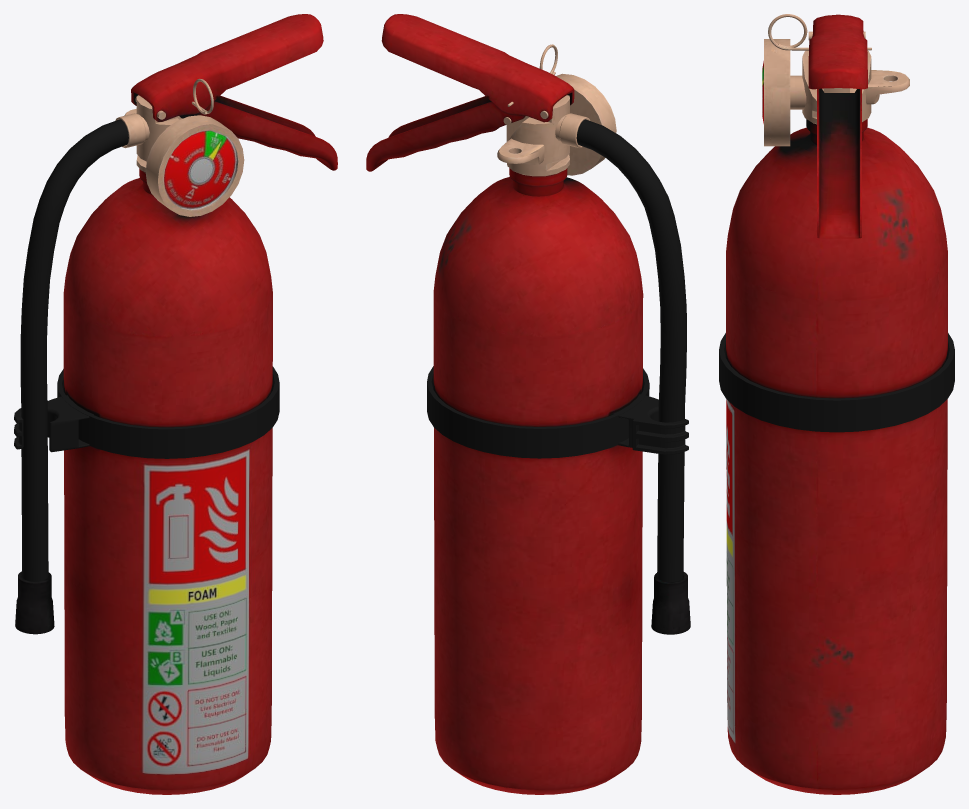
Rendered from theappxr_Estintore_foam_NODRACO_standard.glb.
3 views of the same model, side by side, from view 1: azimuth 30°, elevation 25°; view 2: azimuth 150°, elevation 25°; view 3: azimuth 270°, elevation 25° (orthographic). The views are drawn at different scales.
Visible parts, largest first — view 1: Fire-extinguisherFoam.002, Line002.002, Moveable006.002, Moveable007.002, Moveable005.002; view 2: Fire-extinguisherFoam.002, Line002.002, Moveable006.002, Moveable007.002, Moveable005.002; view 3: Fire-extinguisherFoam.002, Moveable007.002, Moveable006.002, Moveable008.002.
Boxes of the visible parts, x1=… form: Fire-extinguisherFoam.002: x1=14, y1=95, x2=279, y2=794; Line002.002: x1=20, y1=119, x2=128, y2=581; Moveable006.002: x1=131, y1=14, x2=323, y2=121; Moveable007.002: x1=179, y1=95, x2=337, y2=170; Moveable005.002: x1=15, y1=571, x2=54, y2=634; Fire-extinguisherFoam.002: x1=427, y1=73, x2=688, y2=794; Line002.002: x1=576, y1=119, x2=686, y2=581; Moveable006.002: x1=381, y1=14, x2=574, y2=122; Moveable007.002: x1=366, y1=96, x2=525, y2=171; Moveable005.002: x1=651, y1=572, x2=690, y2=634; Fire-extinguisherFoam.002: x1=719, y1=31, x2=954, y2=794; Moveable007.002: x1=817, y1=88, x2=861, y2=238; Moveable006.002: x1=808, y1=14, x2=867, y2=89; Moveable008.002: x1=768, y1=14, x2=871, y2=50.
Bounding box in the file's own units: 0.4085 × 0.8939 × 0.248.
Materials: 2 (1 with a texture image).
